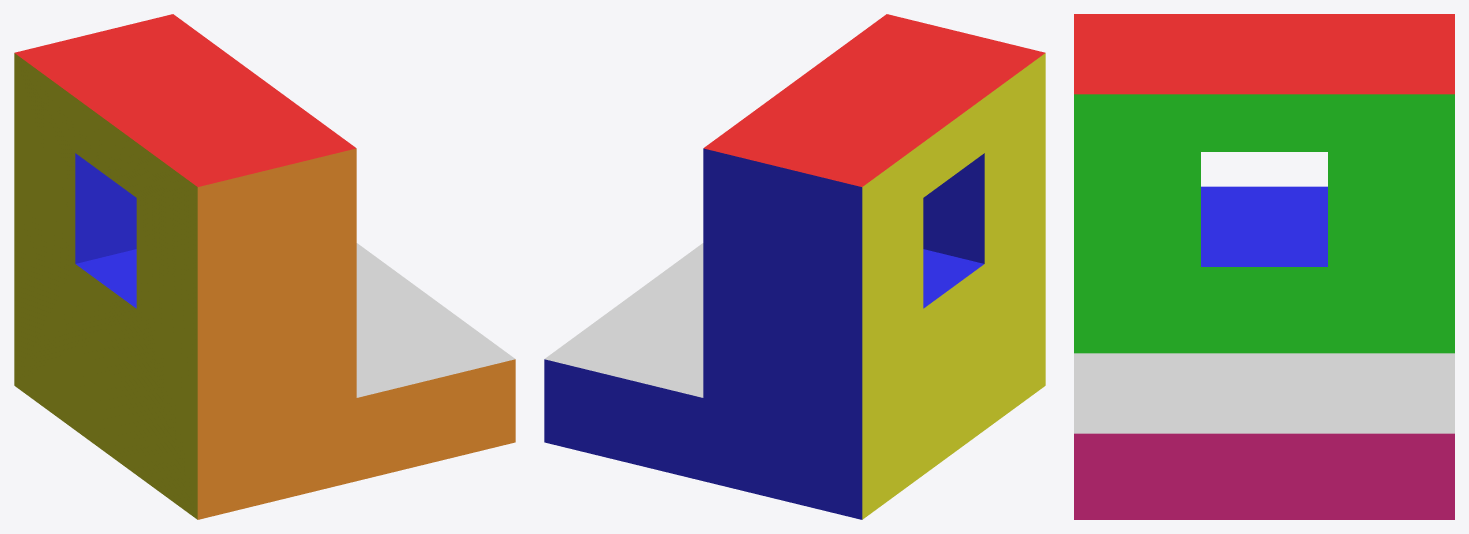
3 views of the same model, side by side, from view 1: azimuth 30°, elevation 25°; view 2: azimuth 150°, elevation 25°; view 3: azimuth 270°, elevation 25° (orthographic). The views are drawn at different scales.
Visible parts, largest first — view 1: G-Object.002; view 2: G-Object.002; view 3: G-Object.002.
Boxes of the visible parts, <box> form: G-Object.002: <box>14,14,515,519</box>; G-Object.002: <box>544,14,1045,519</box>; G-Object.002: <box>1074,14,1454,519</box>.
Size of the model in its own units: 0.6096 by 0.6096 by 0.6096.
